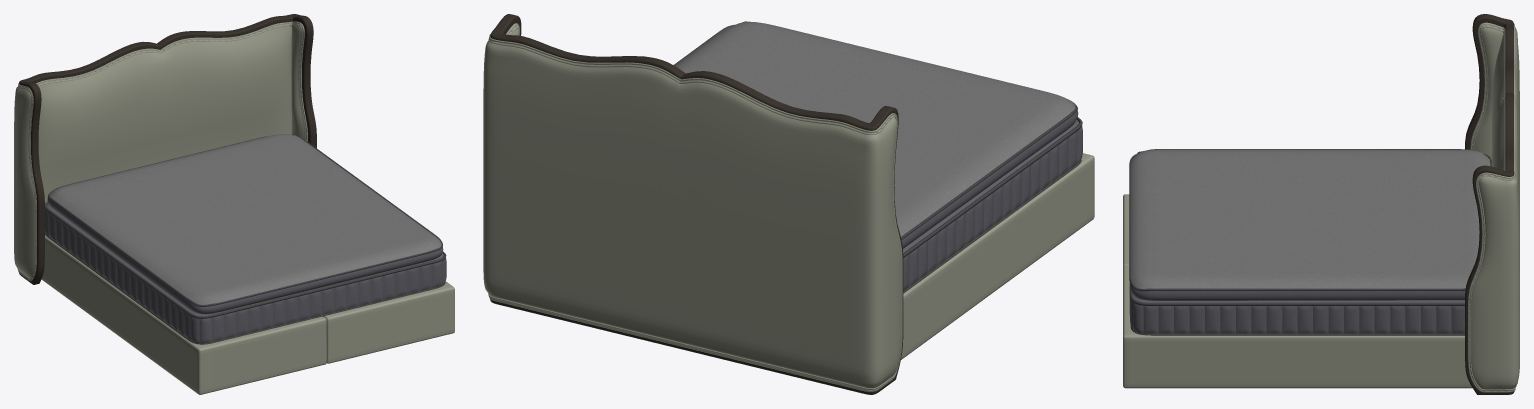
The picture shows the model from 3 angles, left to right: view 1: azimuth 30°, elevation 25°; view 2: azimuth 150°, elevation 25°; view 3: azimuth 270°, elevation 25°; orthographic projection. The views are drawn at different scales.
Parts seen in each view (by area): view 1: 11594122; view 2: 11594122; view 3: 11594122.
Part boxes in pixels (x1=…): 11594122: x1=14, y1=14, x2=454, y2=394; 11594122: x1=483, y1=14, x2=1094, y2=394; 11594122: x1=1123, y1=14, x2=1519, y2=394.
Bounding box in the file's own units: 2.09 × 1.4 × 2.18.
3 materials, 3 textured.
